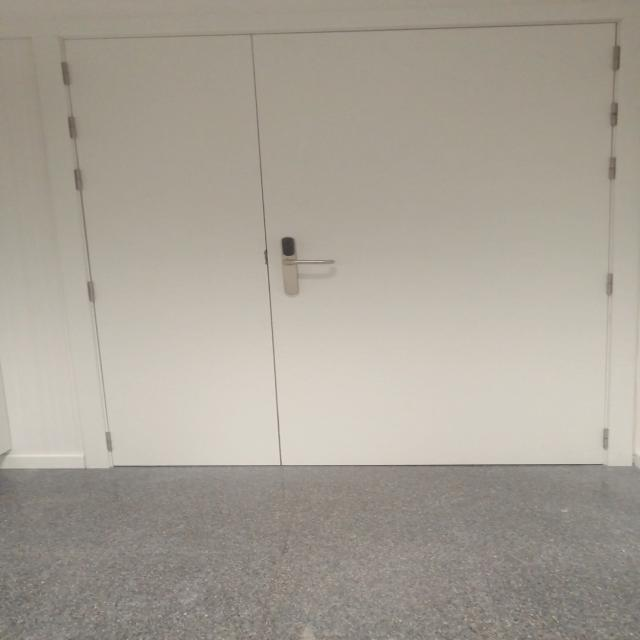door_handle: (279, 258, 340, 268)
